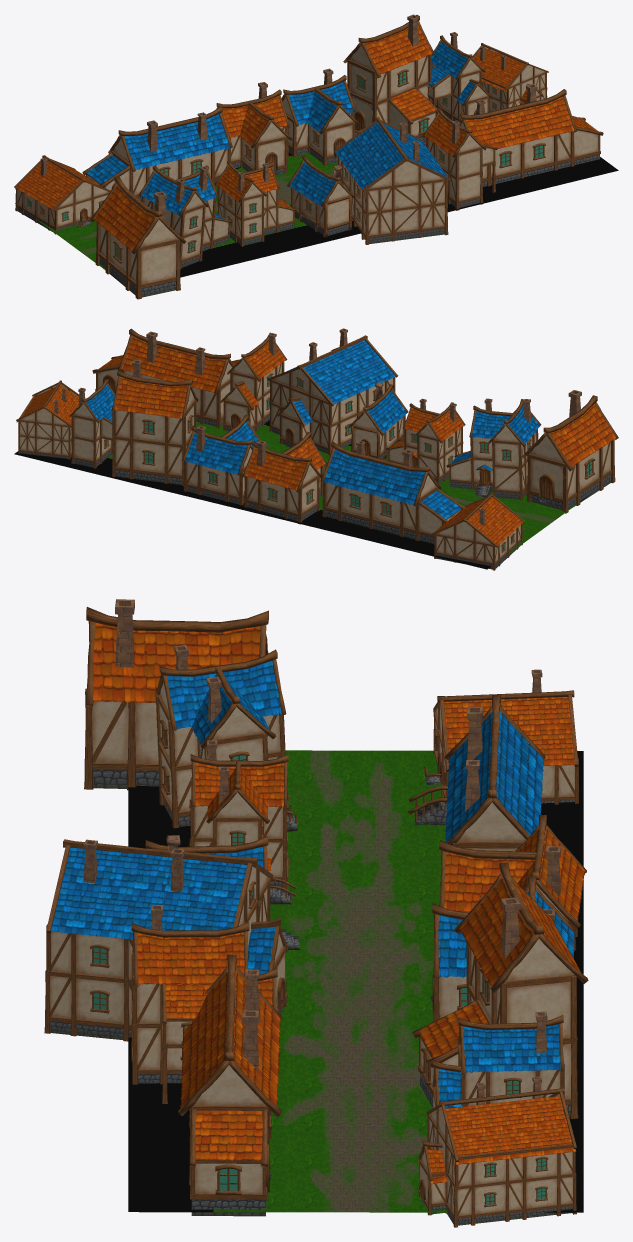
The model's file is nha1.glb.
3 views of the same model, one above another, from view 1: azimuth 30°, elevation 25°; view 2: azimuth 150°, elevation 25°; view 3: azimuth 270°, elevation 25° (orthographic). The views are drawn at different scales.
Visible parts, largest first — view 1: BH8, RH3, RH5, RH2, Plane, BH5, BH4, BH2, RH7, RH6, RH1, RH4 (+3 smaller); view 2: BH8, BH5, RH5, RH2, Plane, BH4, RH3, RH1, RH7, BH2, RH6, RH4 (+3 smaller); view 3: Plane, BH8, RH3, RH8, RH2, RH5, BH4, RH4, BH5, RH6, BH7, RH7 (+3 smaller).
Boxes of the visible parts, box(x1,y1,x2,y2) form: BH8: box(334, 117, 450, 244); RH3: box(459, 84, 603, 186); RH5: box(343, 14, 437, 142); RH2: box(89, 176, 186, 299); Plane: box(15, 152, 618, 280); BH5: box(82, 106, 232, 200); BH4: box(138, 165, 232, 269); BH2: box(281, 68, 359, 165); RH7: box(14, 155, 110, 234); RH6: box(214, 160, 296, 246); RH1: box(216, 82, 292, 175); RH4: box(422, 108, 497, 210); BH8: box(267, 328, 398, 454); BH5: box(320, 440, 465, 543); RH5: box(111, 359, 198, 485); RH2: box(522, 390, 618, 513); Plane: box(14, 420, 587, 569); BH4: box(446, 398, 541, 500); RH3: box(92, 328, 233, 428); RH1: box(242, 432, 326, 524); RH7: box(432, 493, 524, 570); BH2: box(181, 415, 260, 505); RH6: box(386, 398, 465, 484); RH4: box(220, 332, 287, 431); Plane: box(128, 750, 583, 1212); BH8: box(44, 839, 288, 1041); RH3: box(178, 954, 282, 1216); RH8: box(417, 1076, 576, 1227); RH2: box(84, 599, 268, 790); RH5: box(412, 862, 588, 1119); BH4: box(154, 645, 297, 831); RH4: box(131, 905, 280, 1103); BH5: box(408, 695, 545, 851); RH6: box(189, 740, 296, 904); BH7: box(432, 1011, 564, 1108); RH7: box(423, 669, 578, 804).
Size of the model in its own units: 66.27 by 13.77 by 31.51.
4 materials, 3 textured.
